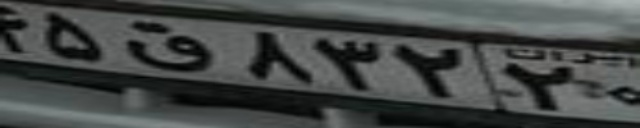0: (602, 84, 639, 107)
2: (394, 44, 465, 97), (500, 62, 571, 111)
3: (312, 38, 377, 92)
4: (1, 4, 27, 53)
5: (42, 11, 103, 62)
8: (245, 31, 314, 83)
ghaf: (124, 21, 215, 72)
